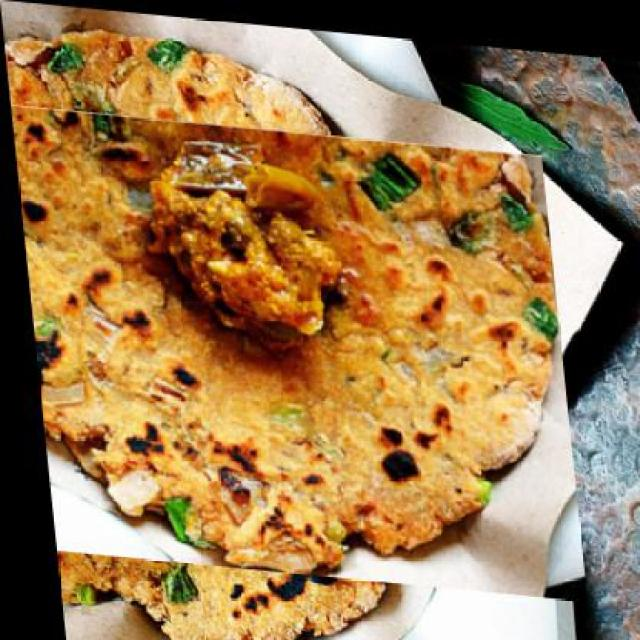chapati: (6, 62, 540, 632)
